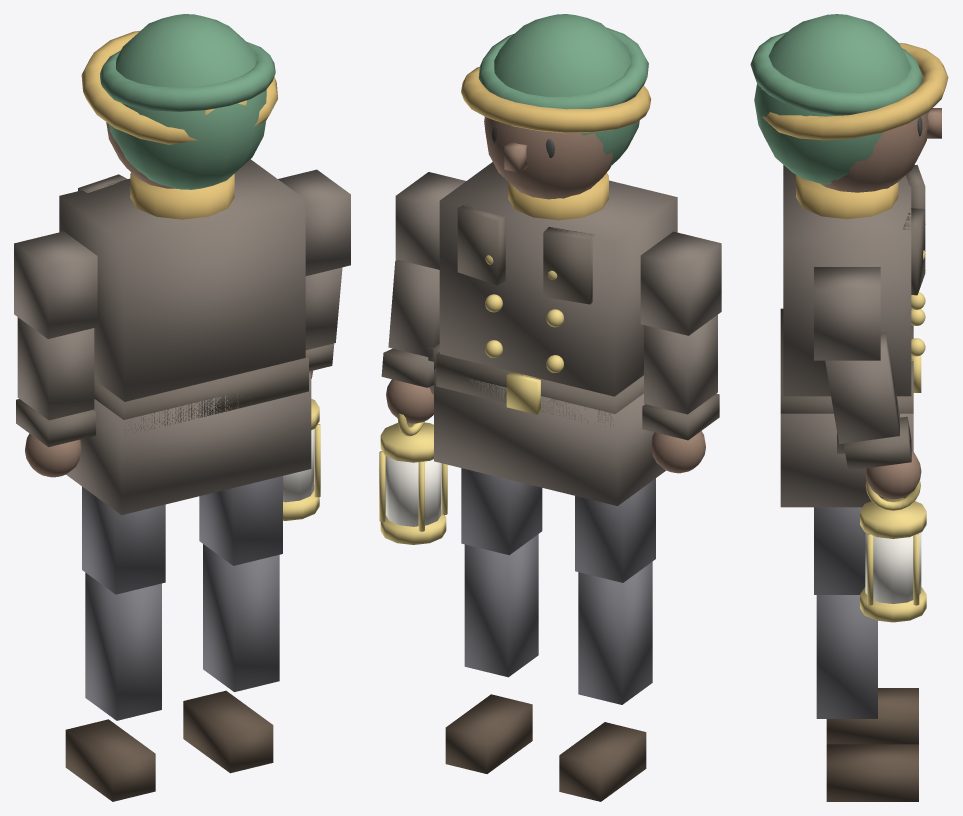
File: harriet.glb
3 renders of one model, left to right at view 1: azimuth 30°, elevation 25°; view 2: azimuth 150°, elevation 25°; view 3: azimuth 270°, elevation 25°, orthographic. The views are drawn at different scales.
Visible parts, largest first — view 1: Torso, Head, LeftLeg, RightLeg, LeftArm, RightArm; view 2: Torso, Head, LeftLeg, RightLeg, RightArm, LeftArm; view 3: Torso, Head, RightArm, RightLeg, LeftLeg.
Part boxes in pixels (x1,y1,x2,y2): Torso: (59,159,311,515); Head: (81,14,277,189); LeftLeg: (65,486,165,801); RightLeg: (183,476,282,773); LeftArm: (14,231,97,477); RightArm: (278,169,350,520); Torso: (428,162,677,505); Head: (461,14,651,199); LeftLeg: (559,478,655,801); RightLeg: (445,468,542,773); RightArm: (379,172,465,544); LeftArm: (640,231,721,473); Torso: (780,164,925,507); Head: (750,14,948,192); RightArm: (814,267,926,622); RightLeg: (814,507,918,801); LeftLeg: (826,688,918,744).
Bounding box in the file's own units: 0.68 × 1.6 × 0.387.
